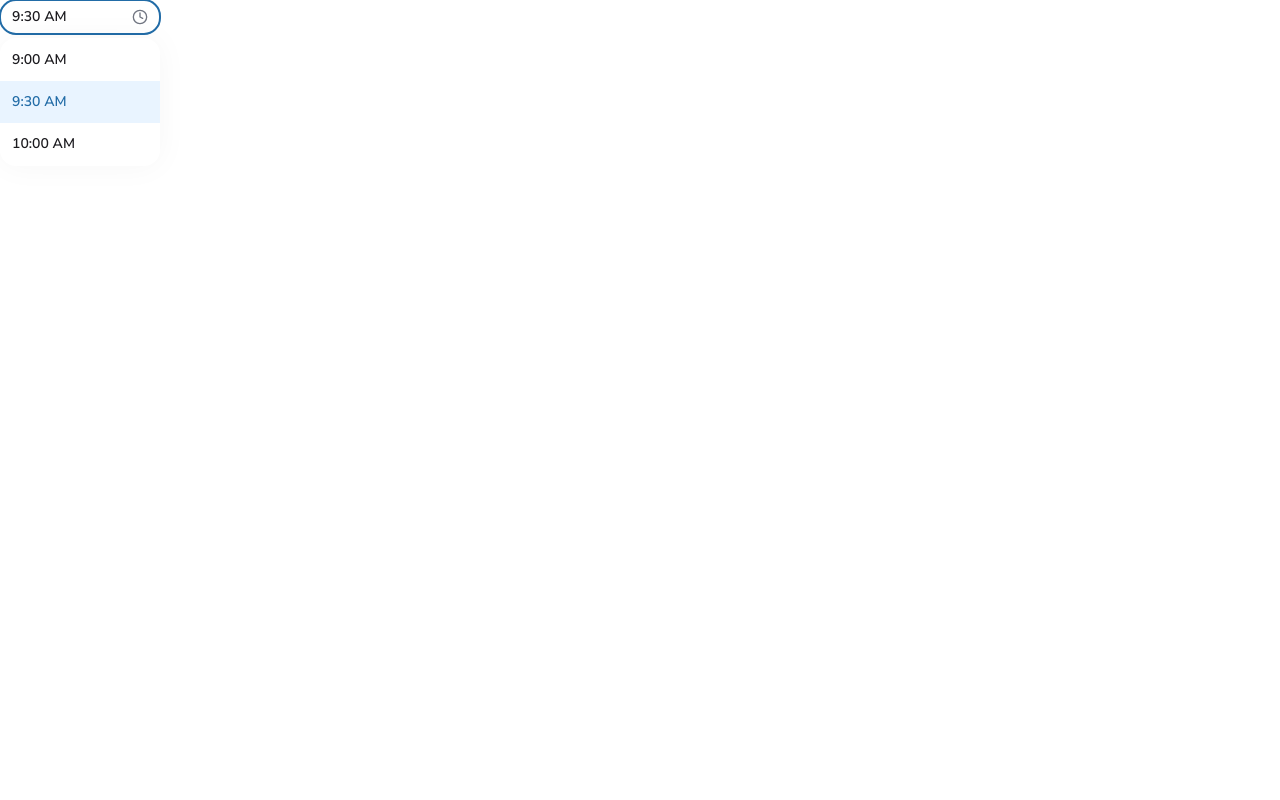
Test: TimePicker opening from the field › commits the draft and closes on Enter
(page scrolled)
Replace the text in the field named "Time" with "10": (68, 17) [12,8,124,26]
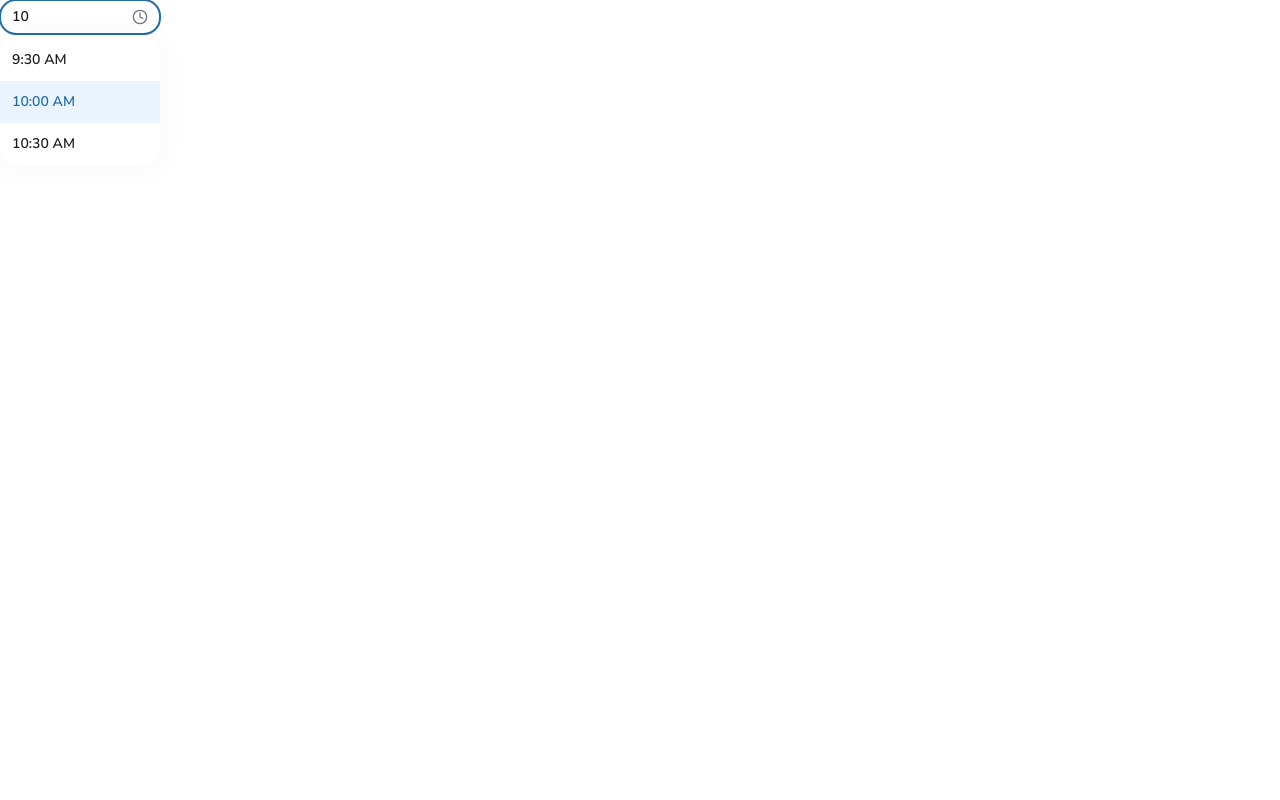
Press Enter in the field named "Time", box [12,8,124,26]
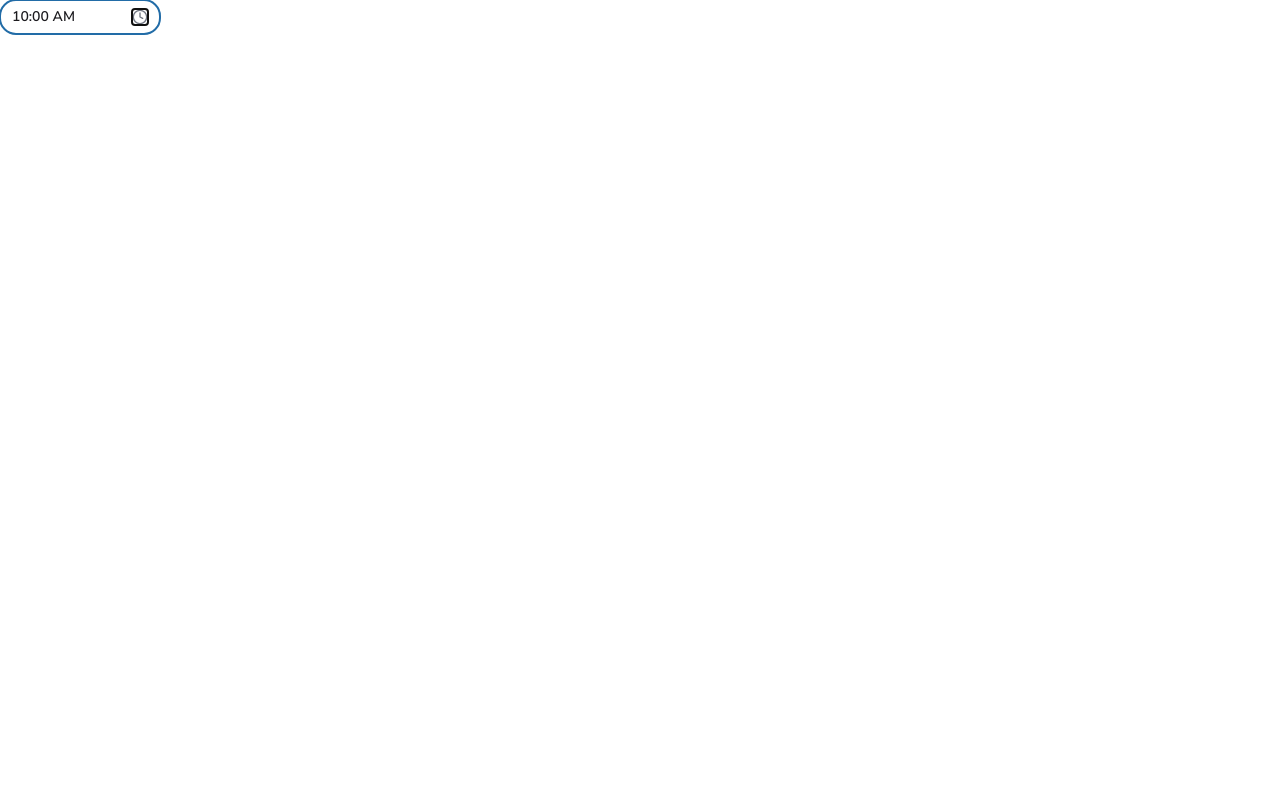
Expected: the field named "Time" holds "10:00 AM", [12,8,124,26]
